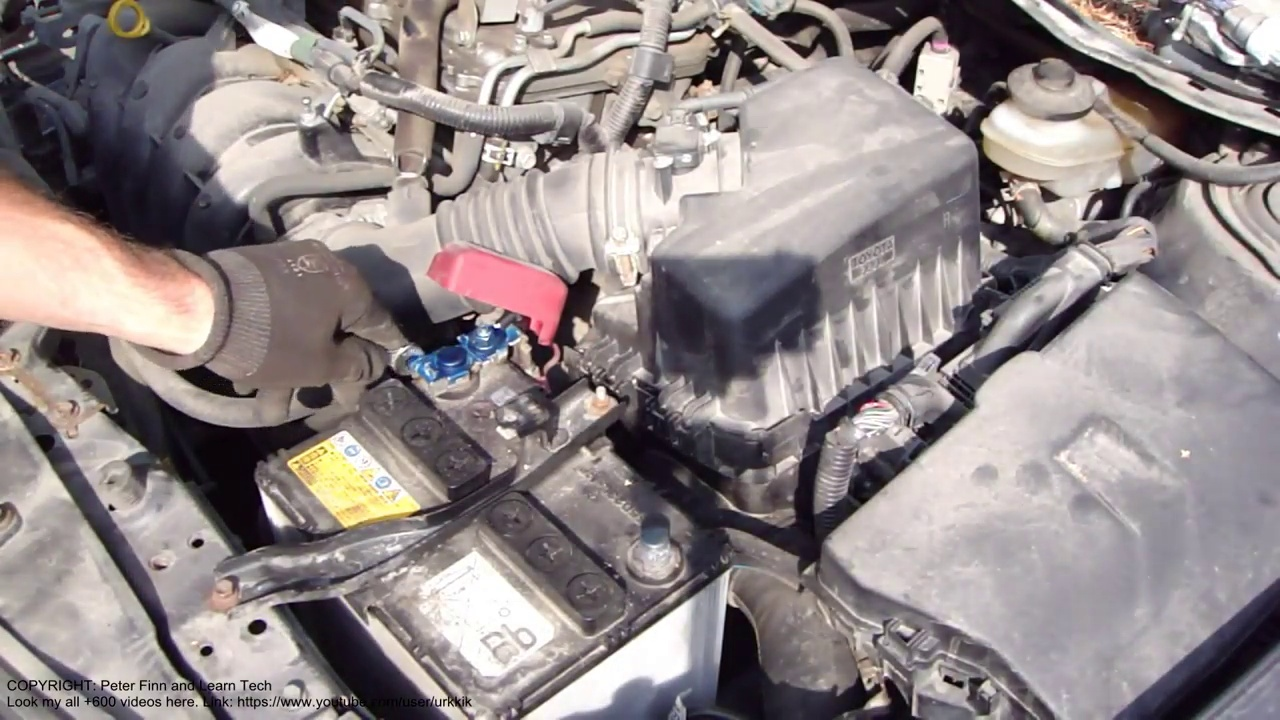battery: (230, 316, 723, 708)
neg_disconnected: (581, 503, 724, 609)
pos_connected: (423, 248, 563, 399)
pos_touched: (304, 251, 561, 429)
